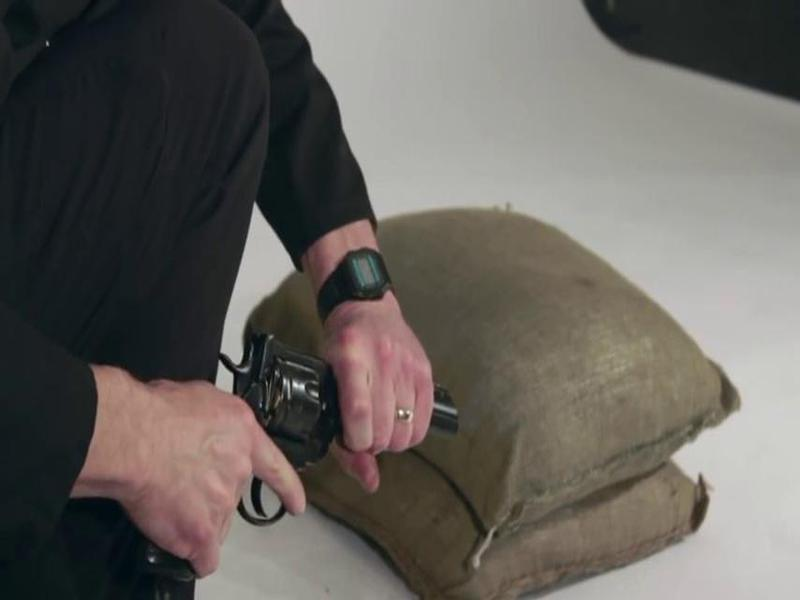Revolver: (140, 325, 486, 586)
